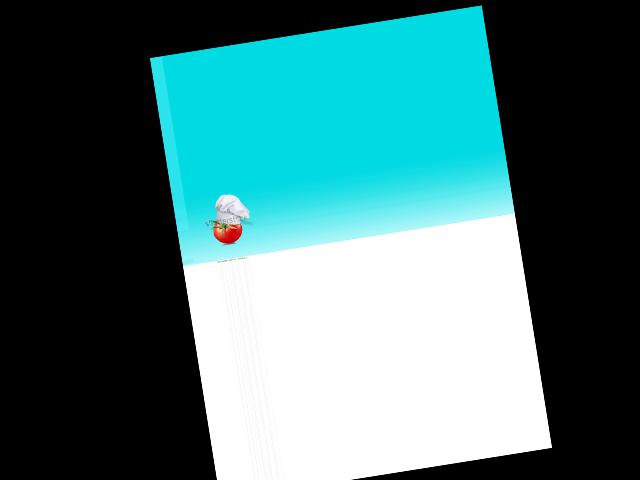tomato: (212, 216, 244, 244)
